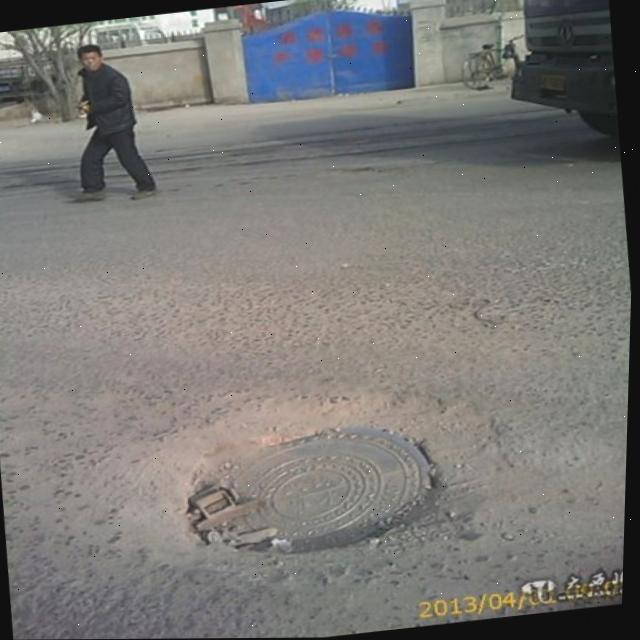manhole: (152, 398, 489, 577)
